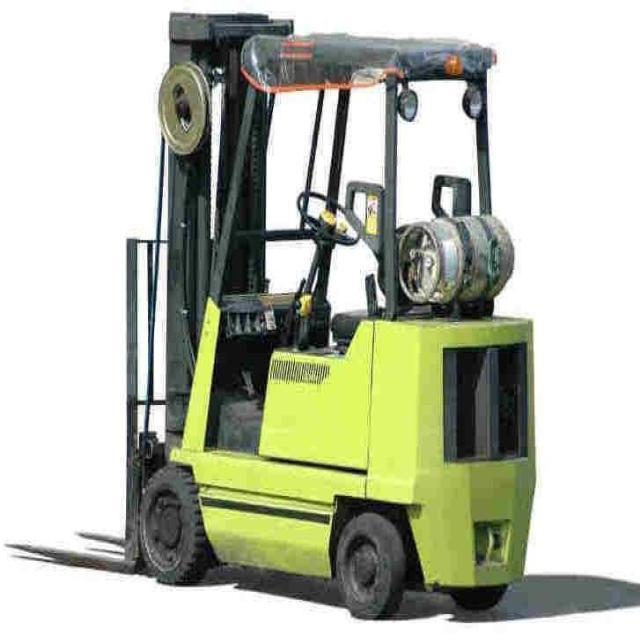forklift: (122, 8, 537, 624)
